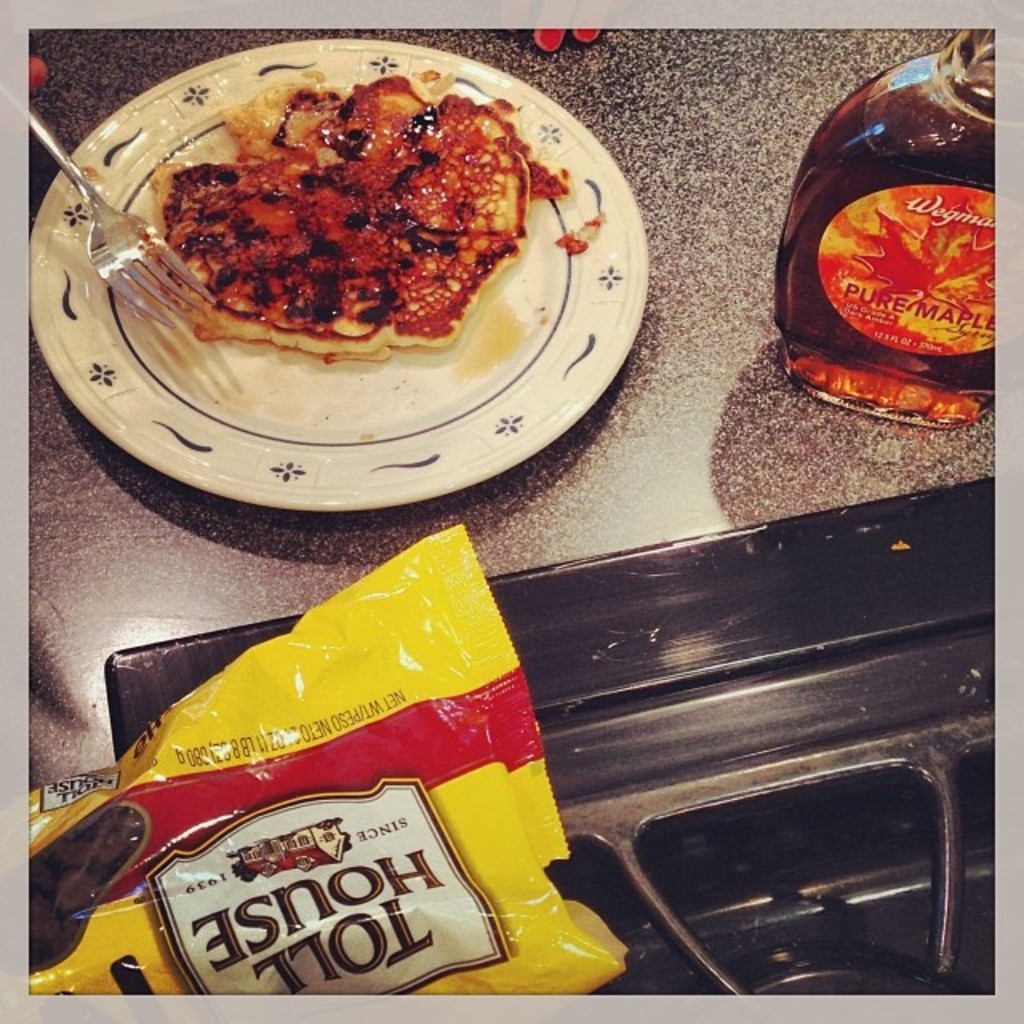Pizza: (150, 78, 540, 358)
